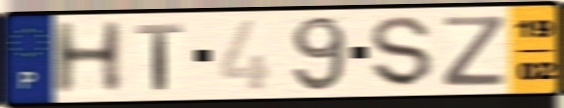4: (217, 17, 276, 93)
9: (287, 14, 350, 94)
H: (49, 19, 127, 98)
S: (368, 14, 436, 90)
T: (133, 21, 185, 92)
Z: (439, 14, 507, 89)
